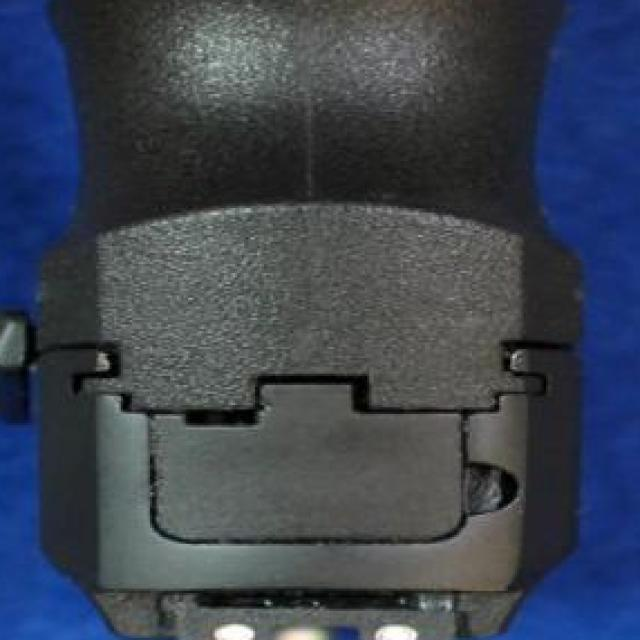pistol: (43, 0, 575, 640)
